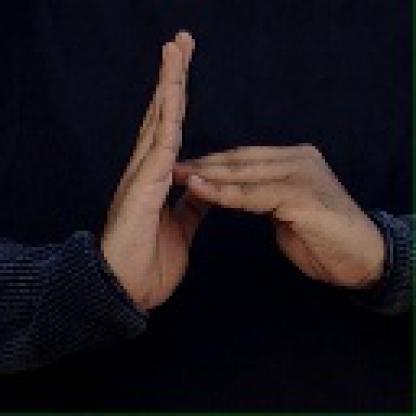Z: (104, 27, 350, 312)
